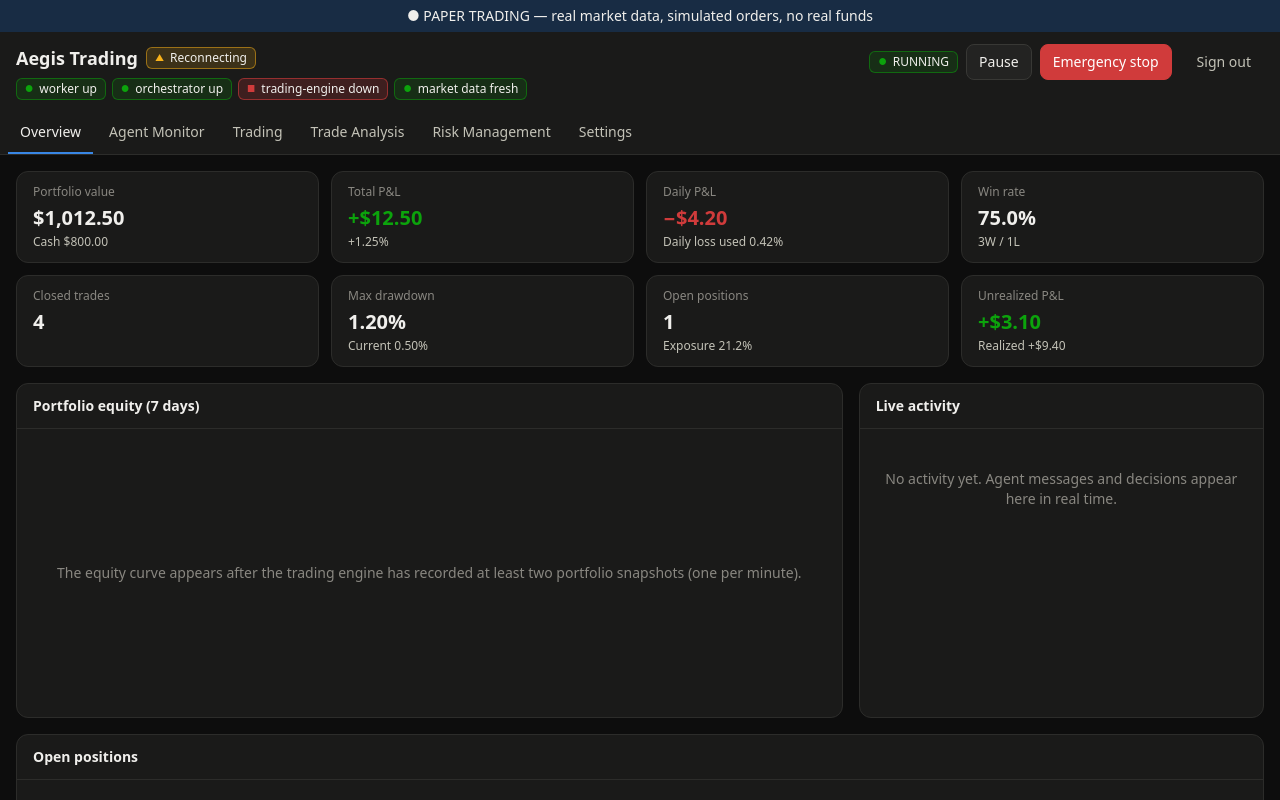
Test: app › agent monitor shows honest online/offline state with the reason
What coordinates should you click on to do the following:
click the button "Agent Monitor"
I would click on:
 (157, 133)
Its box is [97, 112, 217, 154].
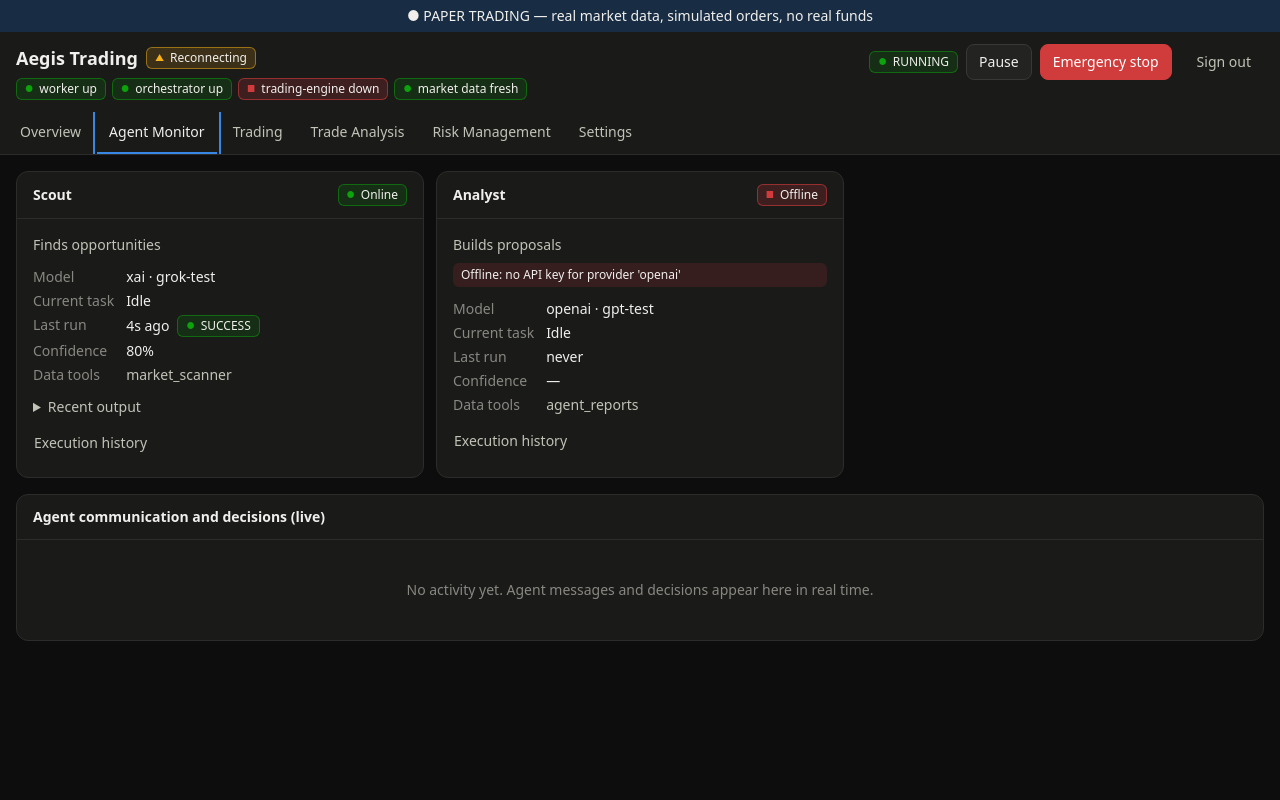
Check: the heading "Scout" is shown, box [33, 185, 72, 205]
Check: the text "Online" is shown, box [361, 186, 398, 203]
Check: the text "Offline" is shown, box [780, 186, 818, 203]
